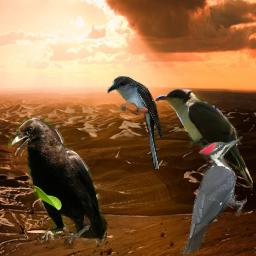Crow: (8, 116, 107, 249)
Cuckoo: (153, 89, 253, 189), (107, 76, 164, 169)
Woodpecker: (180, 136, 247, 254)
